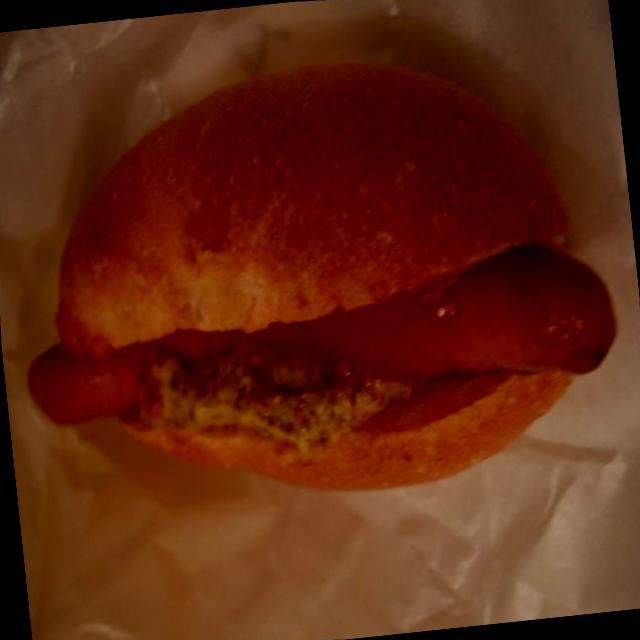Hot Dog: (14, 39, 640, 543)
